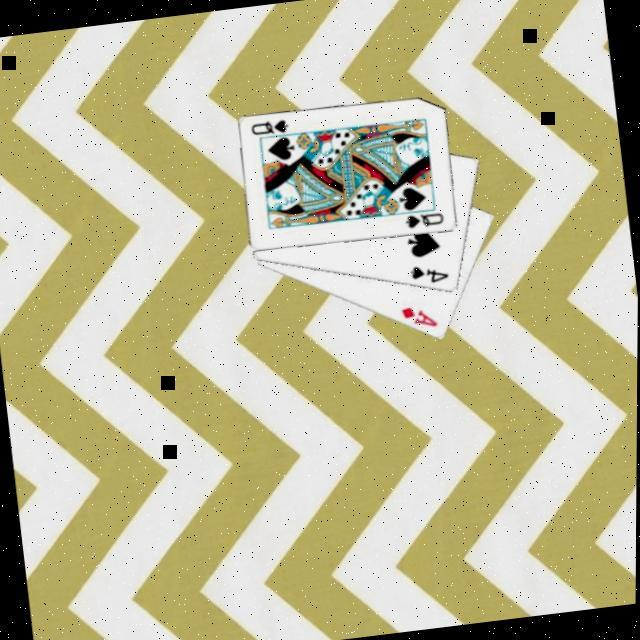4S: (407, 261, 453, 290)
AD: (399, 303, 442, 336)
QS: (403, 210, 449, 234), (249, 118, 293, 141)
